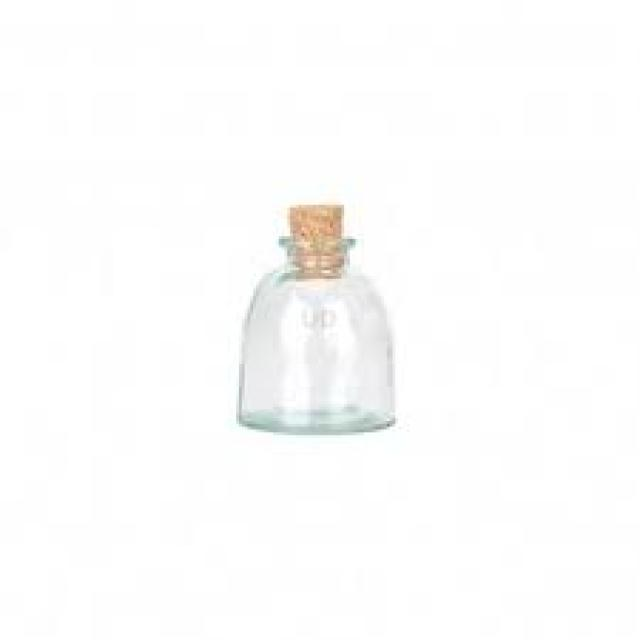glass: (234, 236, 396, 432)
